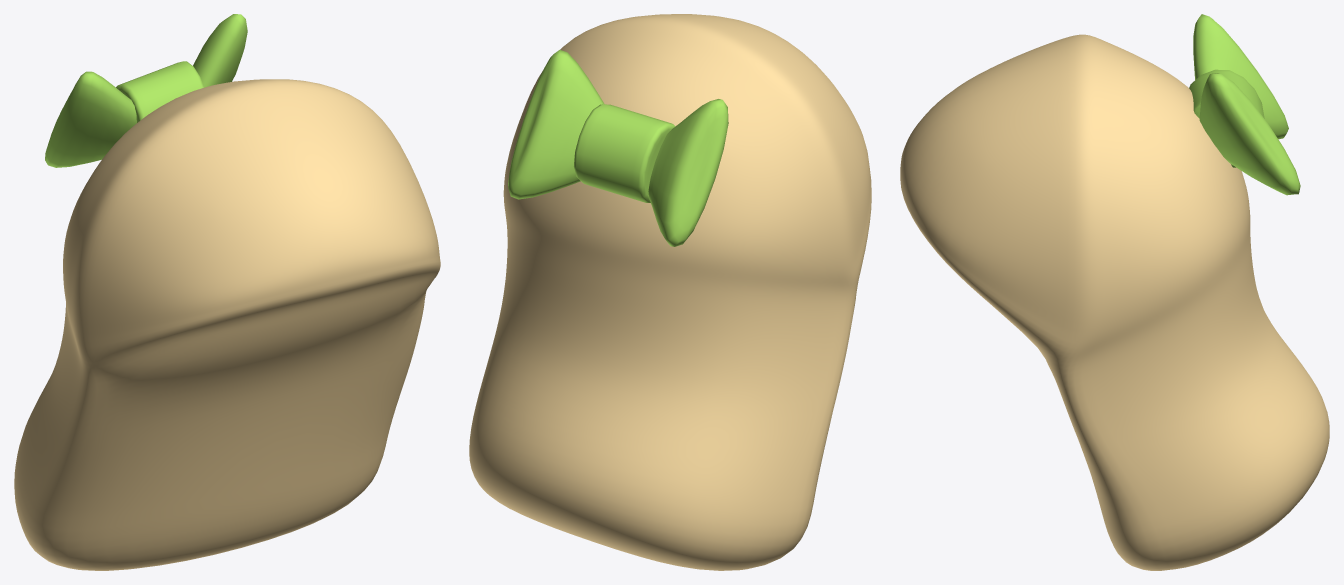
Rendered from long hair.fbx.
3 renders of one model, left to right at view 1: azimuth 30°, elevation 25°; view 2: azimuth 150°, elevation 25°; view 3: azimuth 270°, elevation 25°, orthographic. The views are drawn at different scales.
Visible parts, largest first — view 1: hair, bow; view 2: hair, bow; view 3: hair, bow.
Part boxes in pixels (x1=…): hair: x1=14, y1=79, x2=440, y2=570; bow: x1=45, y1=14, x2=247, y2=167; hair: x1=469, y1=14, x2=871, y2=570; bow: x1=508, y1=50, x2=728, y2=246; hair: x1=900, y1=34, x2=1329, y2=570; bow: x1=1189, y1=14, x2=1300, y2=195.
Bounding box in the file's own units: 12.68 × 17.83 × 14.25.
